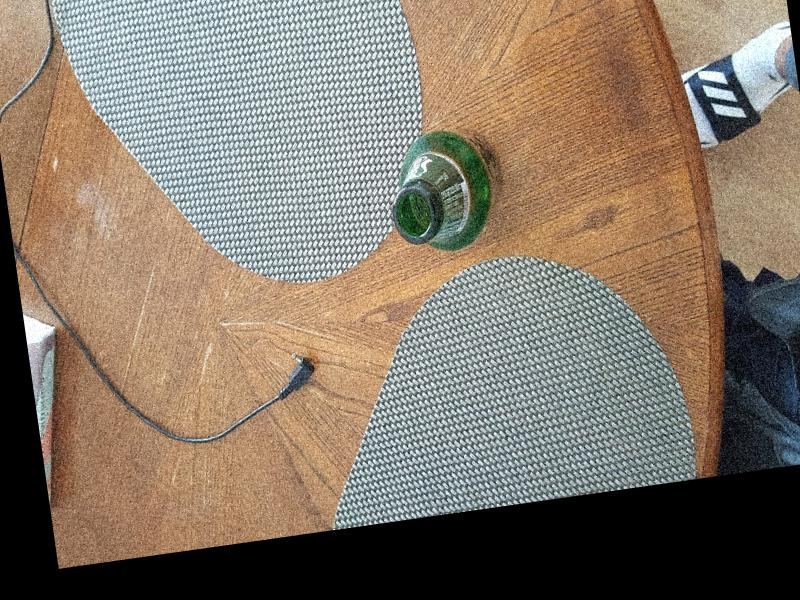Beer: (382, 123, 510, 259)
